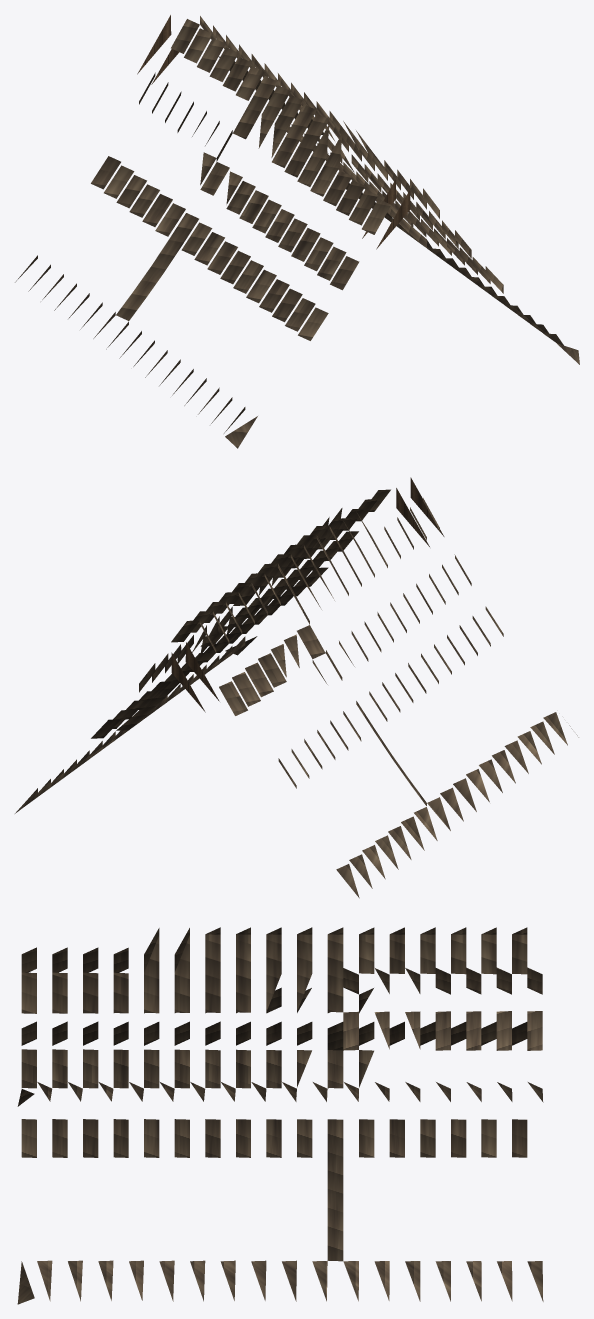
File: Roof_Shingle_6x8_LOD2.gltf
The picture shows the model from 3 angles, top to bottom: view 1: azimuth 30°, elevation 25°; view 2: azimuth 150°, elevation 25°; view 3: azimuth 270°, elevation 25°; orthographic projection. The views are drawn at different scales.
Parts seen in each view (by area): view 1: Roof_Shingle_6x8_LOD2; view 2: Roof_Shingle_6x8_LOD2; view 3: Roof_Shingle_6x8_LOD2.
Part boxes in pixels (x1,y1,x2,y2): Roof_Shingle_6x8_LOD2: (15, 15, 579, 448); Roof_Shingle_6x8_LOD2: (15, 477, 578, 898); Roof_Shingle_6x8_LOD2: (17, 927, 543, 1304).
Bounding box in the file's own units: 8.25 × 5.17 × 9.66.
Materials: 2 (2 with a texture image).
